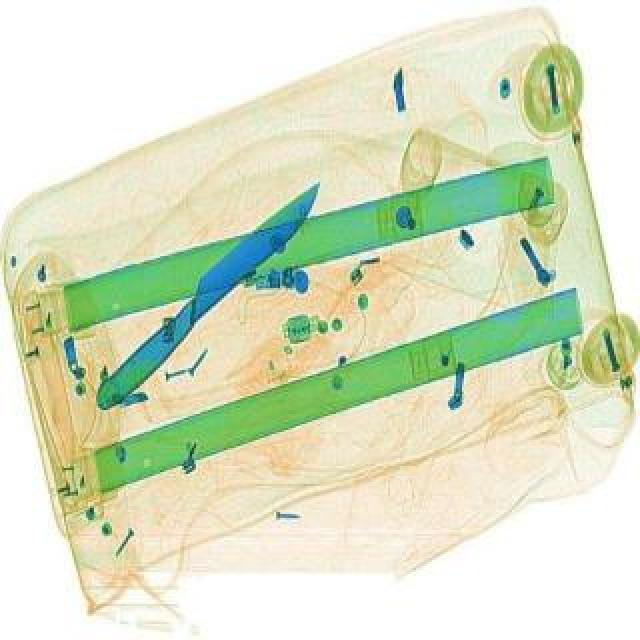knife: (84, 168, 334, 418)
